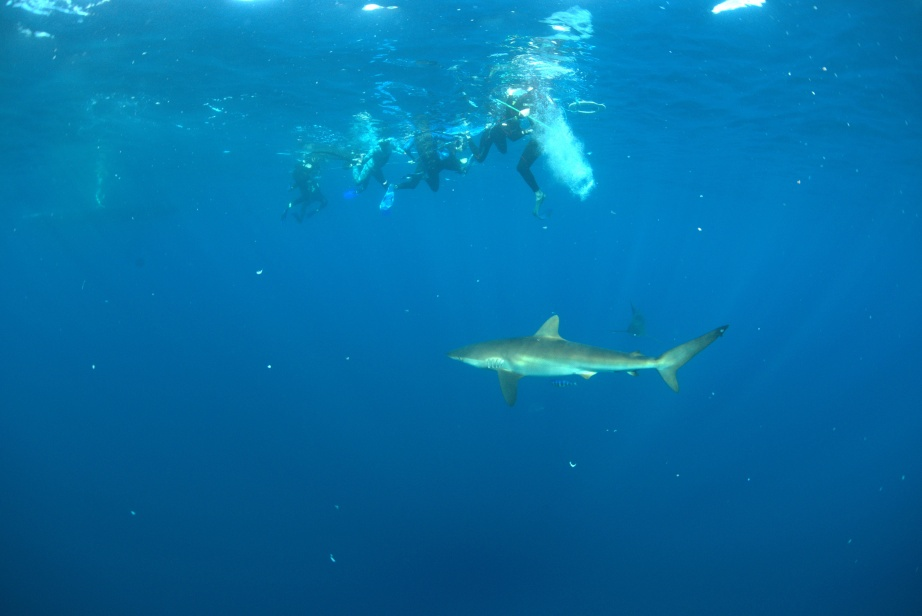Sedoso: (431, 309, 765, 418)
